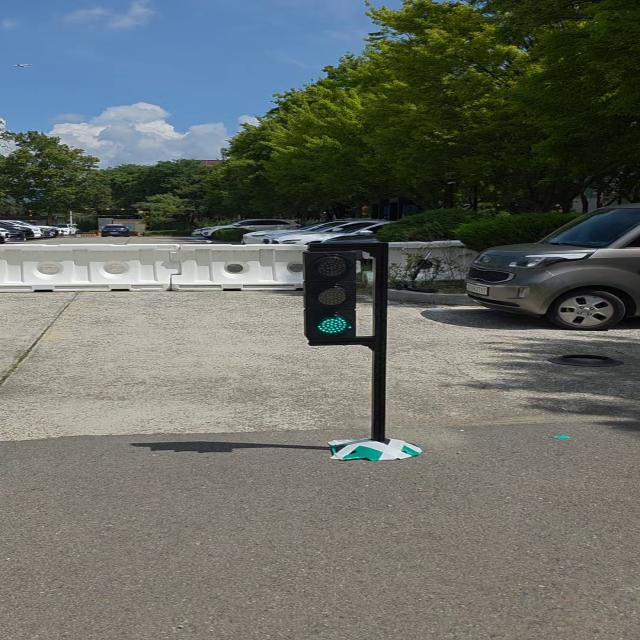green: (302, 249, 359, 347)
